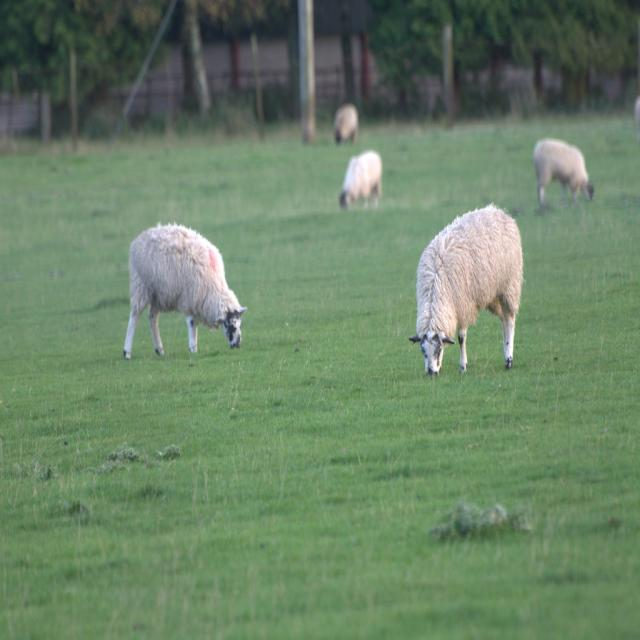Sheep: (407, 202, 525, 378), (124, 223, 250, 362), (533, 140, 593, 200), (338, 150, 382, 210), (334, 106, 358, 144)
